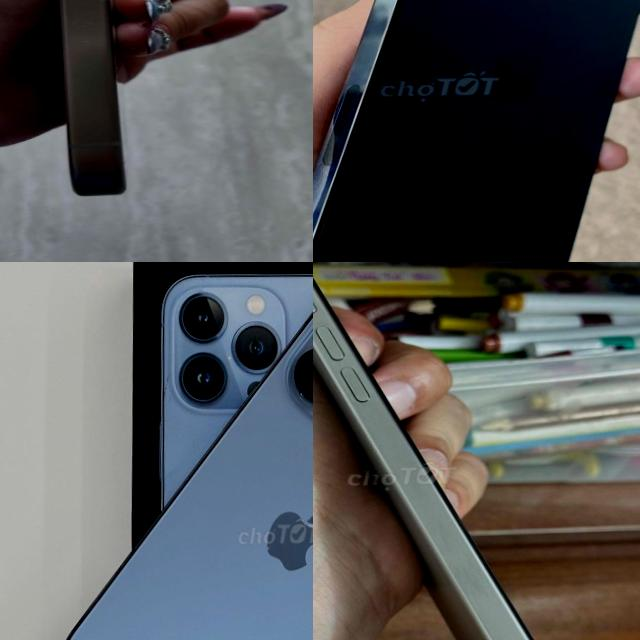gen_12_13: (52, 278, 313, 640), (313, 0, 640, 262)
gen_15: (313, 262, 587, 640), (13, 0, 152, 205)
